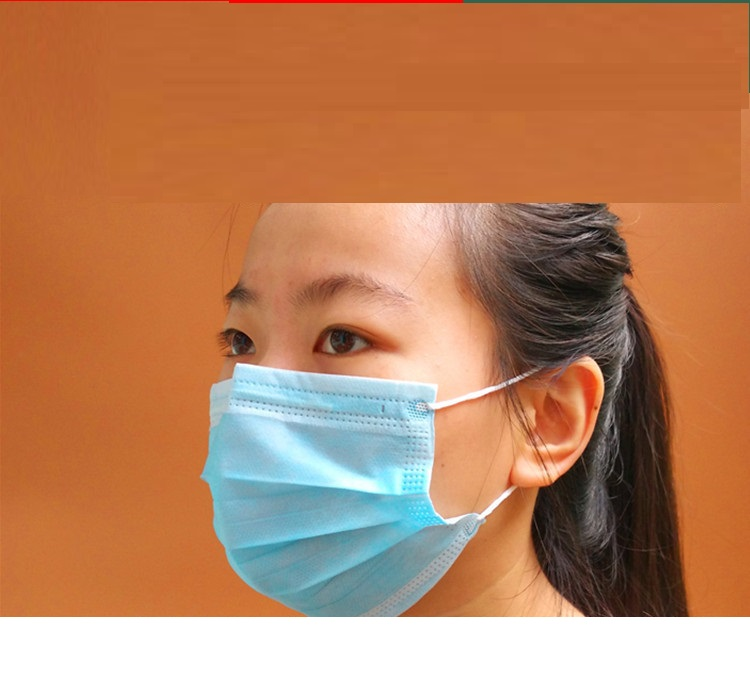face_mask: (205, 188, 499, 577)
